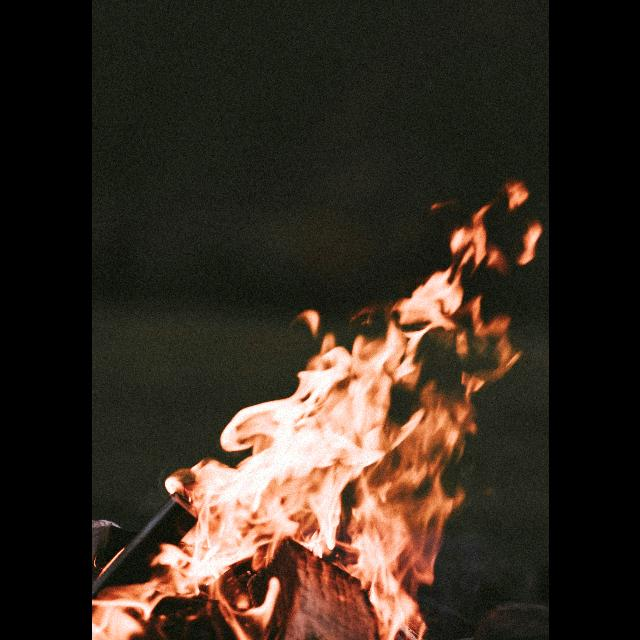fire: (91, 205, 540, 640)
